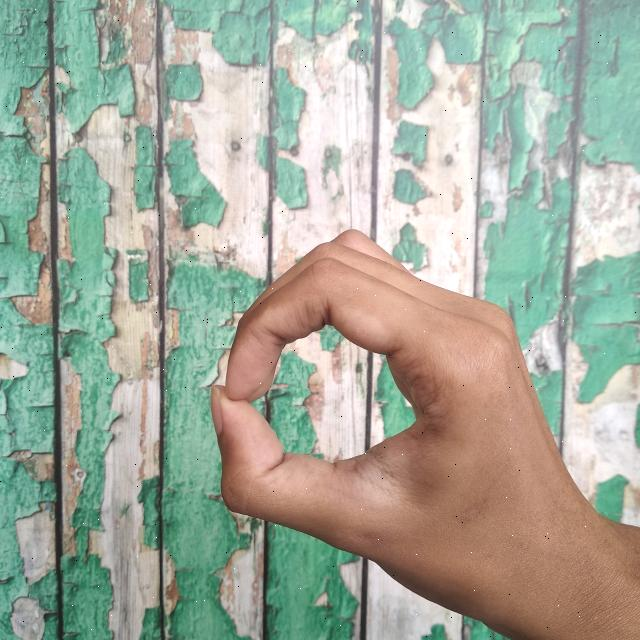O: (207, 221, 640, 640)
